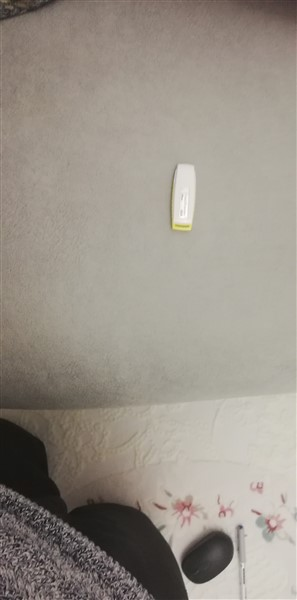flash disk: (168, 160, 208, 242)
mouse: (183, 528, 232, 584)
pilot kalem: (234, 519, 263, 600)
